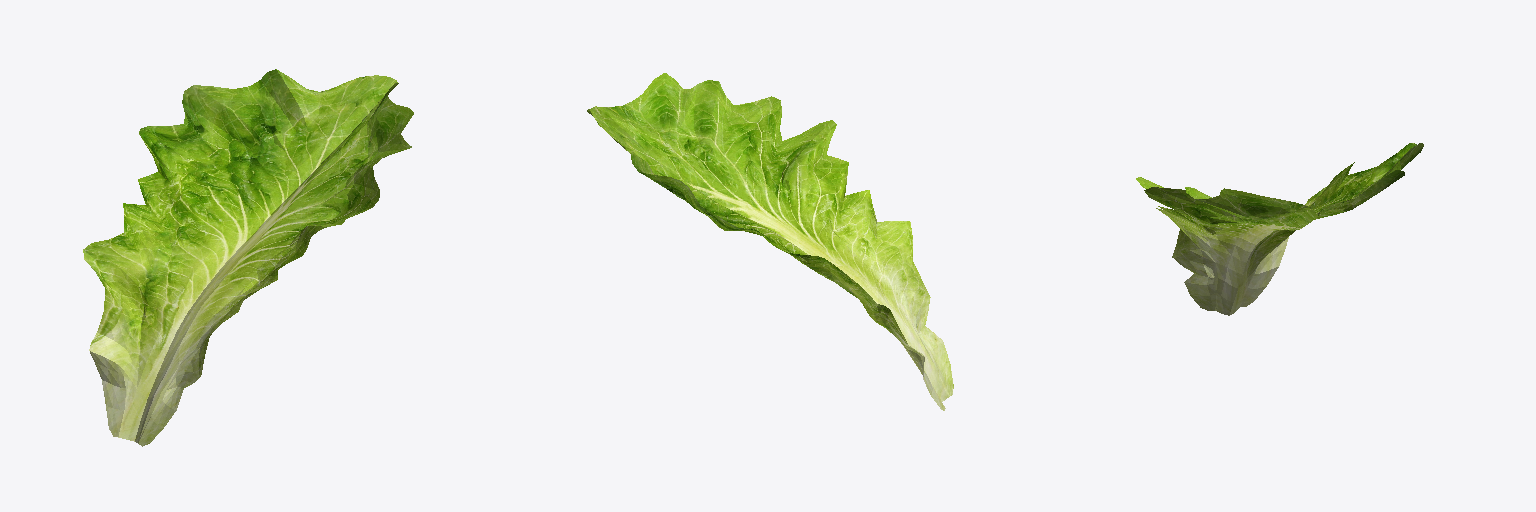
3 views of the same model, side by side, from view 1: azimuth 30°, elevation 25°; view 2: azimuth 150°, elevation 25°; view 3: azimuth 270°, elevation 25° (orthographic).
Parts seen in each view (by area): view 1: polySurface82 salad_plate_for_restaurent_ar:Mesh; view 2: polySurface82 salad_plate_for_restaurent_ar:Mesh; view 3: polySurface82 salad_plate_for_restaurent_ar:Mesh.
Boxes of the visible parts, box(x1,y1,x2,y2) form: polySurface82 salad_plate_for_restaurent_ar:Mesh: box(83, 69, 413, 446); polySurface82 salad_plate_for_restaurent_ar:Mesh: box(587, 73, 953, 410); polySurface82 salad_plate_for_restaurent_ar:Mesh: box(1136, 143, 1423, 315).
Size of the model in its own units: 2.21 by 1.72 by 1.71.
Materials: 1 (1 with a texture image).